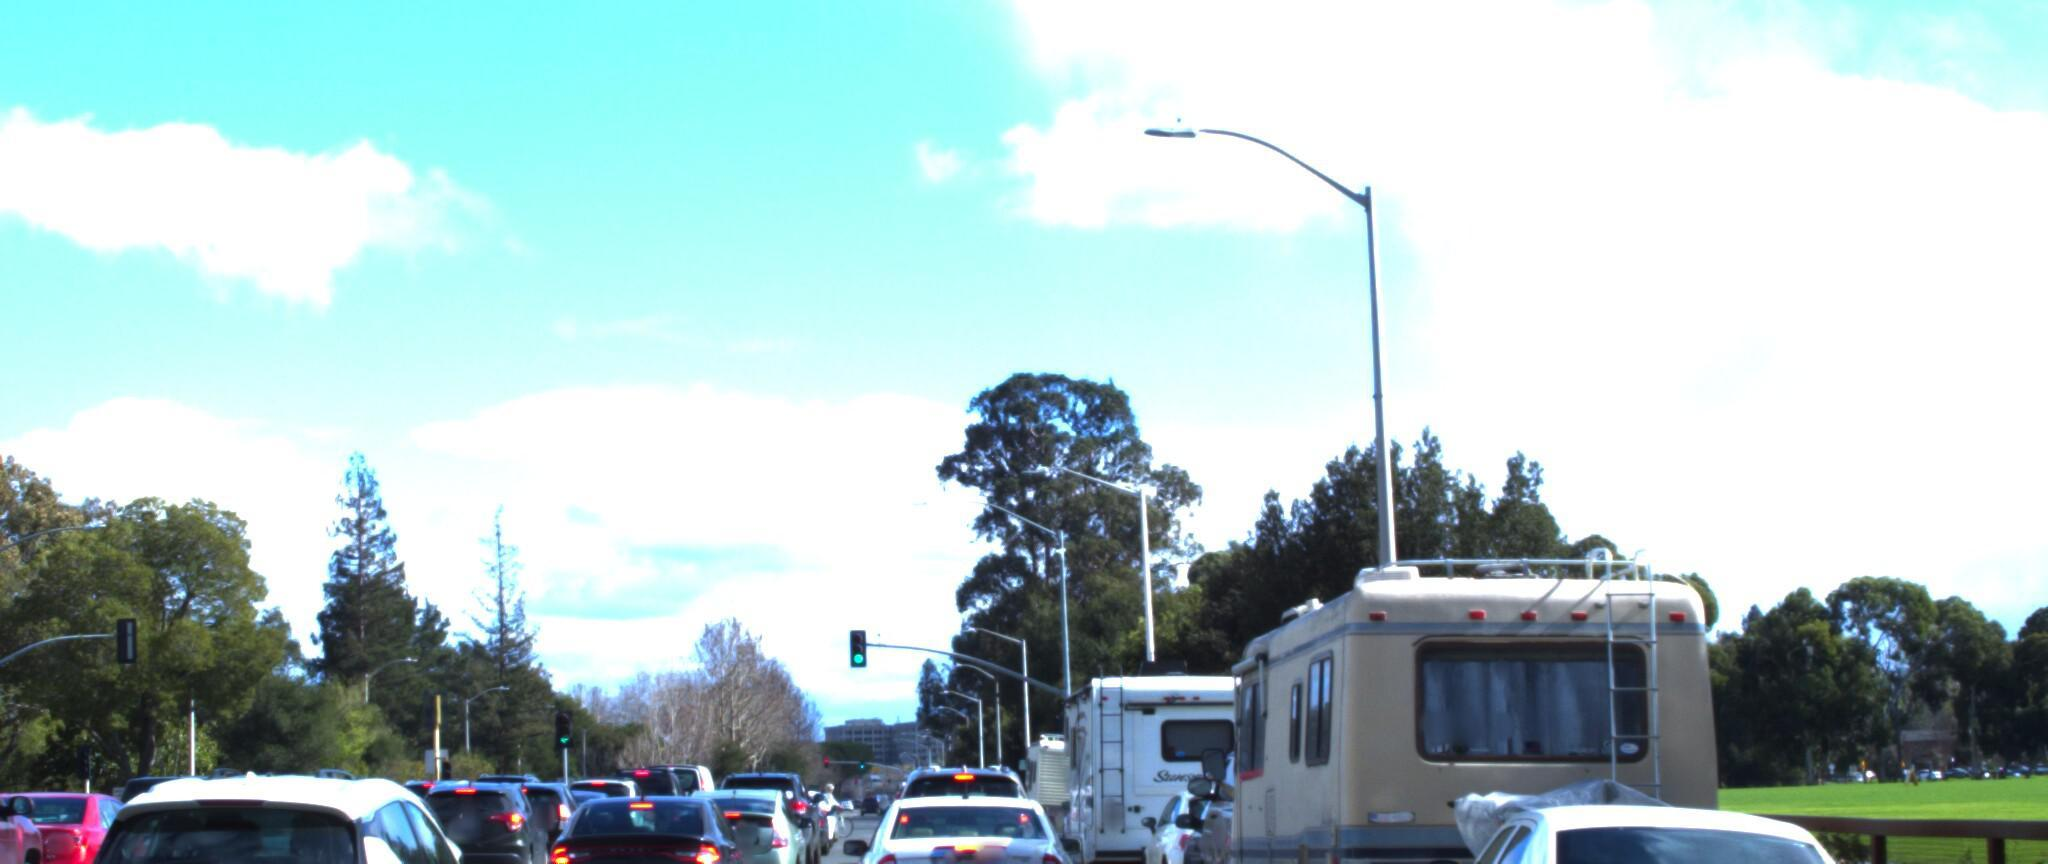bus: (1206, 466, 1778, 864)
car: (35, 705, 521, 864), (1412, 760, 1977, 864), (108, 720, 413, 864), (835, 719, 1084, 864), (539, 745, 767, 864), (895, 728, 1038, 864), (0, 760, 185, 864), (1138, 750, 1307, 864), (408, 744, 563, 864), (673, 753, 812, 864), (724, 737, 839, 841), (0, 702, 73, 864)
other_vehicle: (1061, 630, 1307, 861), (1024, 688, 1156, 820)
